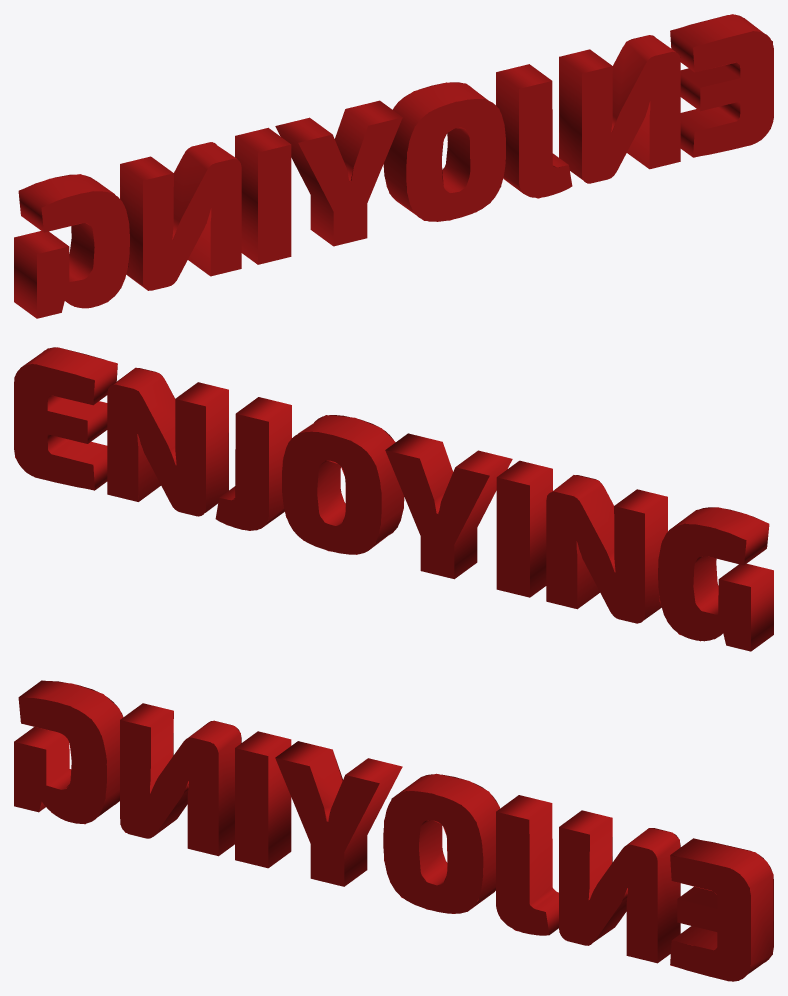
The model's file is enjoying.fbx.
The picture shows the model from 3 angles, top to bottom: view 1: azimuth 30°, elevation 25°; view 2: azimuth 150°, elevation 25°; view 3: azimuth 330°, elevation 25°; orthographic projection.
Visible parts, largest first — view 1: Text; view 2: Text; view 3: Text.
Boxes of the visible parts, x1,y1,x2,y2 form: Text: (14,14,773,318); Text: (14,347,773,651); Text: (14,680,773,981).
Size of the model in its own units: 14.85 by 2.26 by 0.8.
